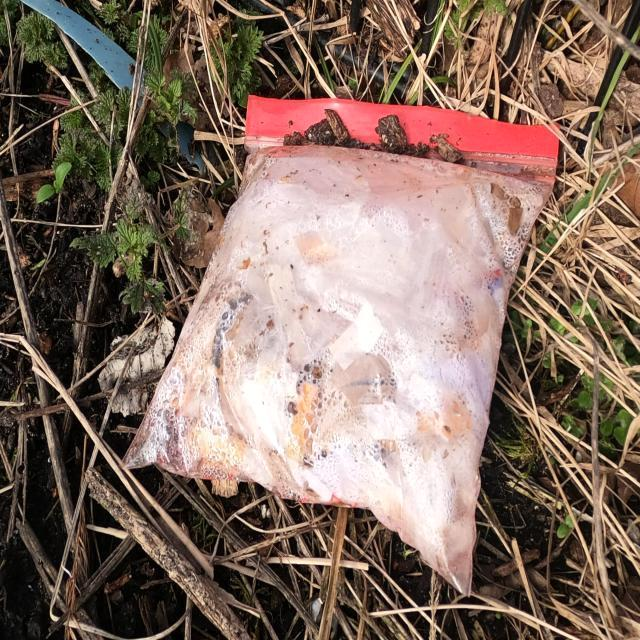Paper: (96, 312, 176, 418)
Plastic: (118, 90, 562, 598)
